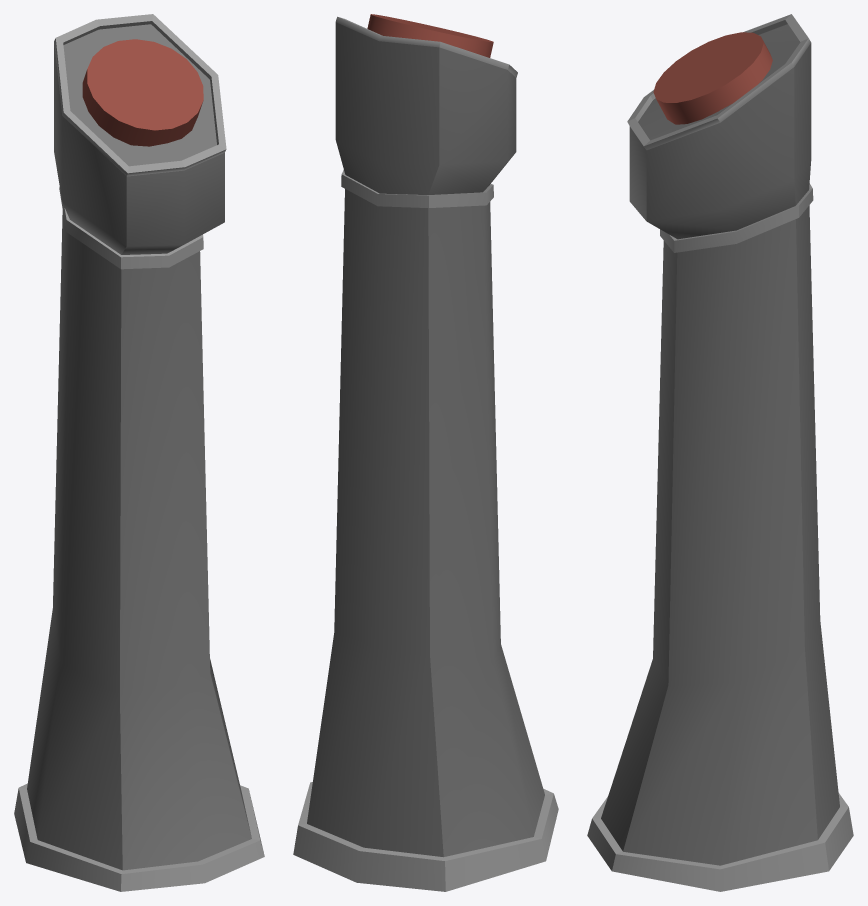
The model's file is Button.fbx.
3 renders of one model, left to right at view 1: azimuth 30°, elevation 25°; view 2: azimuth 150°, elevation 25°; view 3: azimuth 270°, elevation 25°, orthographic. The views are drawn at different scales.
Parts seen in each view (by area): view 1: pCube1, pCylinder1; view 2: pCube1, pCylinder1; view 3: pCube1, pCylinder1.
Part boxes in pixels (bbox=[...]): pCube1: bbox=[14, 14, 264, 891]; pCylinder1: bbox=[82, 39, 203, 146]; pCube1: bbox=[293, 16, 558, 891]; pCylinder1: bbox=[367, 14, 493, 57]; pCube1: bbox=[587, 14, 853, 891]; pCylinder1: bbox=[653, 32, 772, 124].
Bounding box in the file's own units: 2.25 × 7.43 × 2.25.
